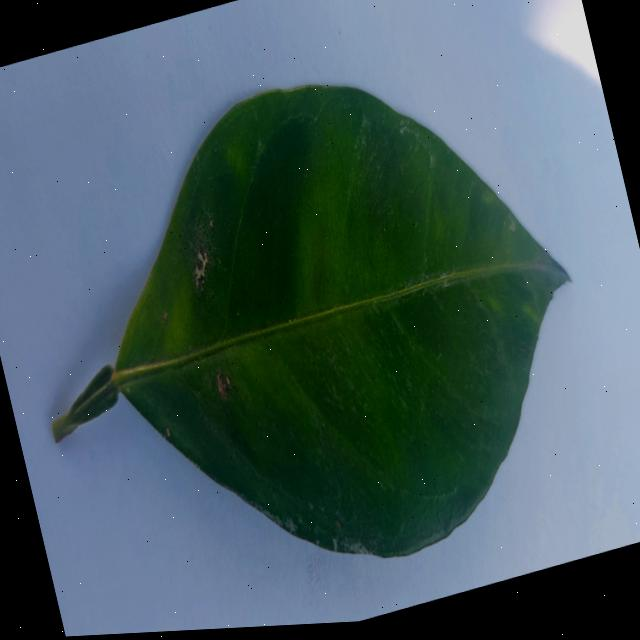greening: (53, 85, 568, 556)
